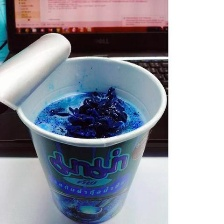paper_cup: (0, 28, 167, 224)
